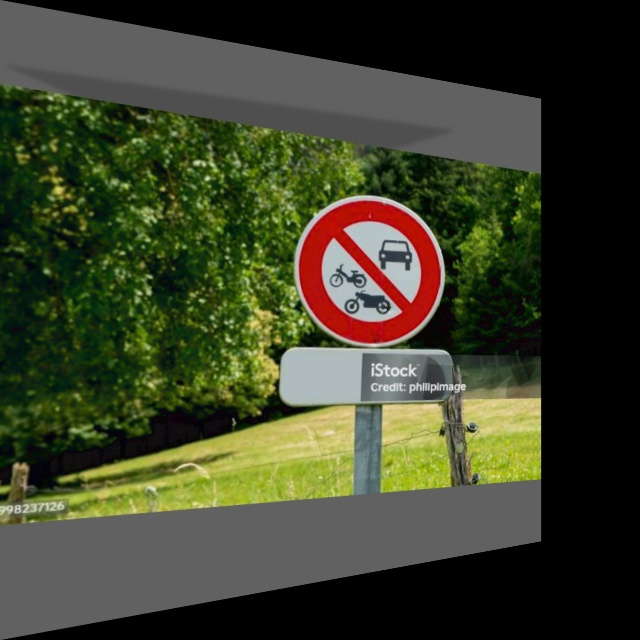All_Motor_Vehicles_Prohibited: (290, 183, 443, 351)
